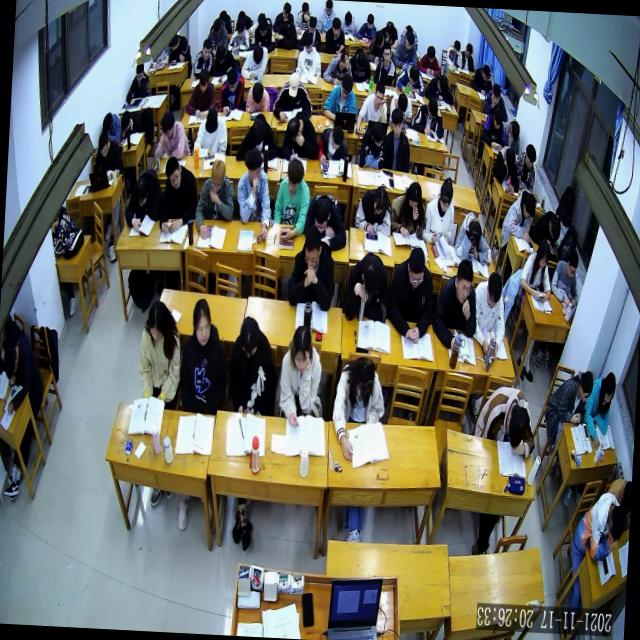bow: (472, 382, 538, 461), (303, 188, 350, 250), (122, 166, 163, 234), (279, 108, 321, 166), (454, 207, 496, 264), (236, 110, 280, 164), (316, 125, 349, 167), (394, 60, 427, 101), (530, 208, 562, 249), (321, 50, 354, 87), (424, 72, 456, 108), (166, 28, 194, 65), (119, 105, 150, 138), (98, 112, 122, 146), (274, 16, 298, 50), (218, 9, 235, 35)
down: (0, 327, 47, 417), (290, 320, 314, 372), (351, 356, 376, 405), (126, 58, 150, 105), (360, 255, 386, 298), (301, 225, 323, 272), (146, 300, 168, 345), (238, 314, 260, 359), (405, 243, 426, 288), (284, 158, 306, 198), (606, 502, 626, 542), (485, 271, 504, 311), (164, 153, 184, 190), (313, 194, 331, 230), (209, 156, 227, 192), (439, 175, 455, 213), (132, 177, 150, 209), (601, 371, 618, 404), (2, 338, 18, 373), (578, 368, 594, 403), (160, 108, 177, 140), (372, 182, 388, 215), (286, 116, 303, 146), (468, 217, 483, 250), (536, 239, 551, 271), (407, 179, 423, 208), (564, 248, 578, 281), (339, 70, 354, 100), (521, 192, 536, 222), (251, 116, 266, 145), (226, 64, 240, 94), (204, 104, 219, 132), (546, 212, 561, 240), (370, 122, 386, 148), (288, 67, 302, 96), (330, 125, 345, 152), (524, 144, 538, 172), (98, 131, 112, 158), (251, 81, 266, 106), (120, 108, 134, 134), (504, 145, 518, 171), (374, 80, 386, 110), (198, 65, 210, 94), (100, 108, 114, 132), (302, 30, 315, 54), (426, 93, 439, 117), (492, 104, 504, 130), (490, 80, 502, 106), (198, 220, 213, 240), (508, 118, 522, 139), (252, 44, 264, 68), (408, 60, 420, 84), (215, 44, 228, 66), (396, 92, 409, 114), (330, 17, 343, 38), (374, 27, 386, 49), (404, 29, 416, 51), (436, 71, 448, 92), (167, 33, 180, 52), (202, 38, 212, 62), (338, 51, 350, 71), (307, 15, 318, 36), (258, 15, 270, 34), (134, 62, 144, 84), (212, 15, 223, 35), (355, 52, 366, 72), (278, 22, 290, 40), (236, 19, 246, 40), (385, 20, 395, 40), (426, 42, 436, 62), (481, 60, 491, 80), (282, 0, 292, 19), (300, 2, 310, 19), (324, 1, 334, 18), (464, 42, 474, 59), (344, 10, 353, 28), (453, 38, 461, 58), (366, 12, 374, 31), (248, 68, 259, 81)
lookup: (191, 297, 214, 348), (453, 258, 474, 306), (389, 105, 404, 134), (380, 42, 392, 64)
sit: (328, 350, 387, 461), (178, 294, 230, 416), (226, 312, 280, 414), (136, 299, 184, 411), (276, 319, 328, 422), (384, 246, 436, 345), (431, 256, 480, 354), (572, 483, 628, 562), (288, 224, 338, 310), (234, 142, 276, 242), (192, 154, 238, 242), (342, 247, 391, 326), (469, 270, 509, 361), (272, 155, 313, 240), (158, 156, 199, 236), (544, 362, 594, 424), (582, 373, 618, 449), (422, 175, 460, 245), (271, 70, 315, 126), (518, 238, 554, 304), (389, 178, 428, 238), (354, 178, 394, 234), (320, 71, 360, 126), (354, 78, 390, 138), (152, 107, 192, 160), (382, 104, 412, 173), (192, 106, 230, 160), (501, 186, 537, 243), (549, 244, 581, 306), (92, 126, 126, 180), (186, 66, 218, 120), (217, 60, 248, 114), (357, 115, 388, 168), (411, 92, 446, 138), (490, 142, 520, 194), (295, 28, 323, 74), (372, 39, 399, 86), (514, 141, 538, 192), (481, 103, 508, 148), (482, 80, 510, 122), (240, 43, 270, 82), (388, 90, 414, 132), (192, 33, 215, 79), (394, 26, 419, 68), (250, 14, 277, 51), (298, 15, 324, 53), (244, 79, 272, 114), (206, 17, 230, 57), (324, 16, 348, 56), (212, 42, 237, 80), (348, 44, 372, 80), (228, 15, 251, 52), (272, 0, 296, 35), (418, 40, 442, 74), (472, 57, 494, 94), (354, 11, 378, 44), (316, 0, 339, 34), (366, 27, 386, 65), (502, 115, 522, 152), (292, 1, 312, 36), (444, 38, 464, 73), (380, 16, 400, 46), (460, 42, 478, 72), (341, 6, 358, 35)
